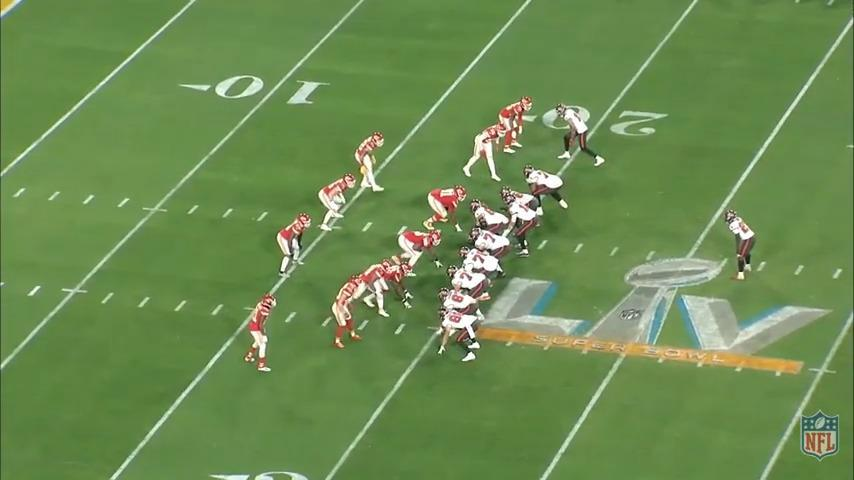player: (358, 255, 413, 318), (555, 104, 605, 172), (436, 307, 485, 364), (330, 274, 366, 350), (247, 294, 280, 376), (725, 209, 760, 286), (461, 120, 504, 182), (392, 227, 445, 277), (501, 190, 537, 256), (277, 213, 314, 276), (494, 95, 531, 156), (523, 165, 569, 214), (424, 185, 469, 234), (319, 174, 356, 233), (356, 129, 388, 196), (359, 259, 394, 319), (469, 225, 511, 273), (469, 199, 512, 242), (458, 246, 504, 282), (448, 265, 491, 302), (435, 286, 482, 318), (499, 187, 539, 222)
